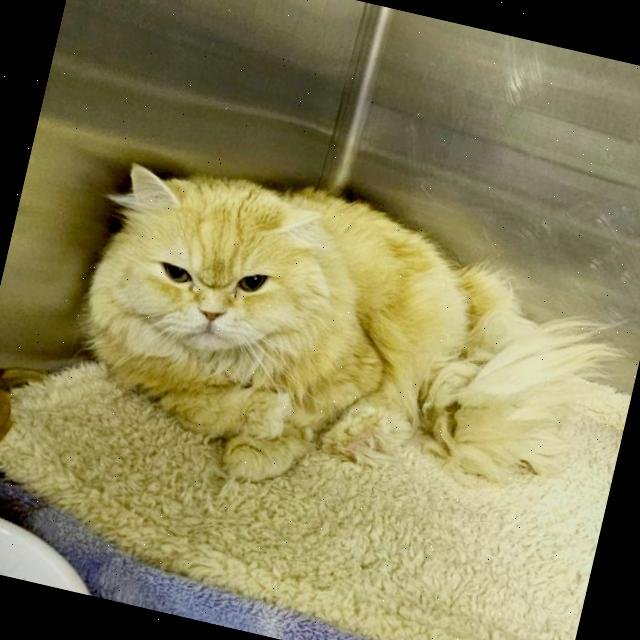persian_cat: (70, 143, 364, 407)
